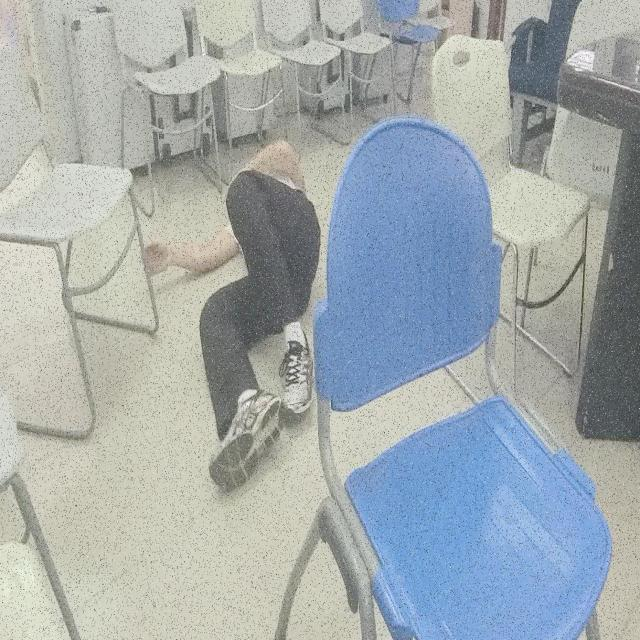fall: (140, 135, 320, 493)
